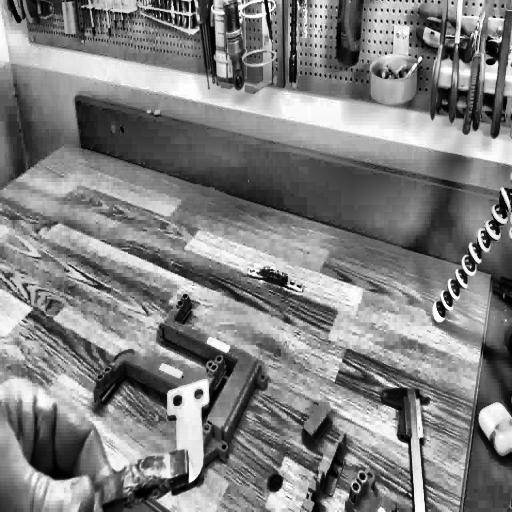busbar: (89, 286, 271, 494)
